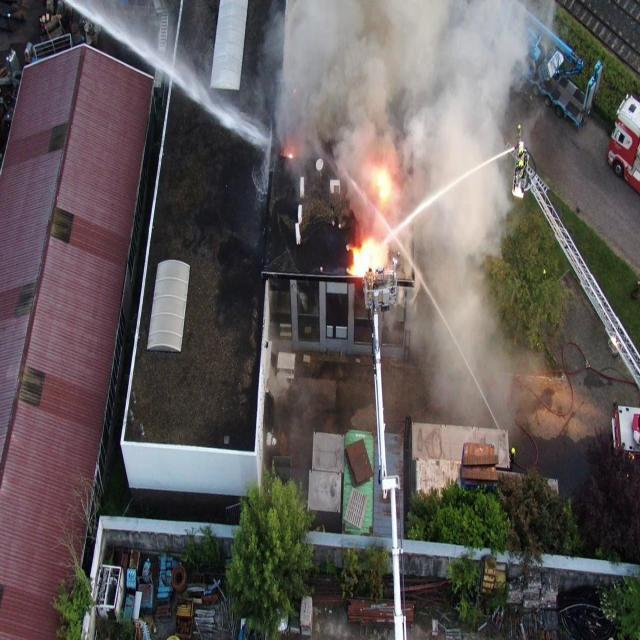Fire: (346, 238, 384, 278), (377, 172, 389, 200), (287, 154, 293, 160)
Smoke: (252, 0, 556, 434)
